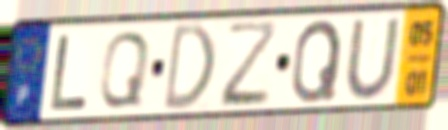D: (160, 20, 218, 115)
L: (47, 32, 92, 114)
Q: (288, 16, 345, 106), (96, 29, 153, 111)
U: (343, 14, 403, 102)
Z: (220, 18, 280, 111)
